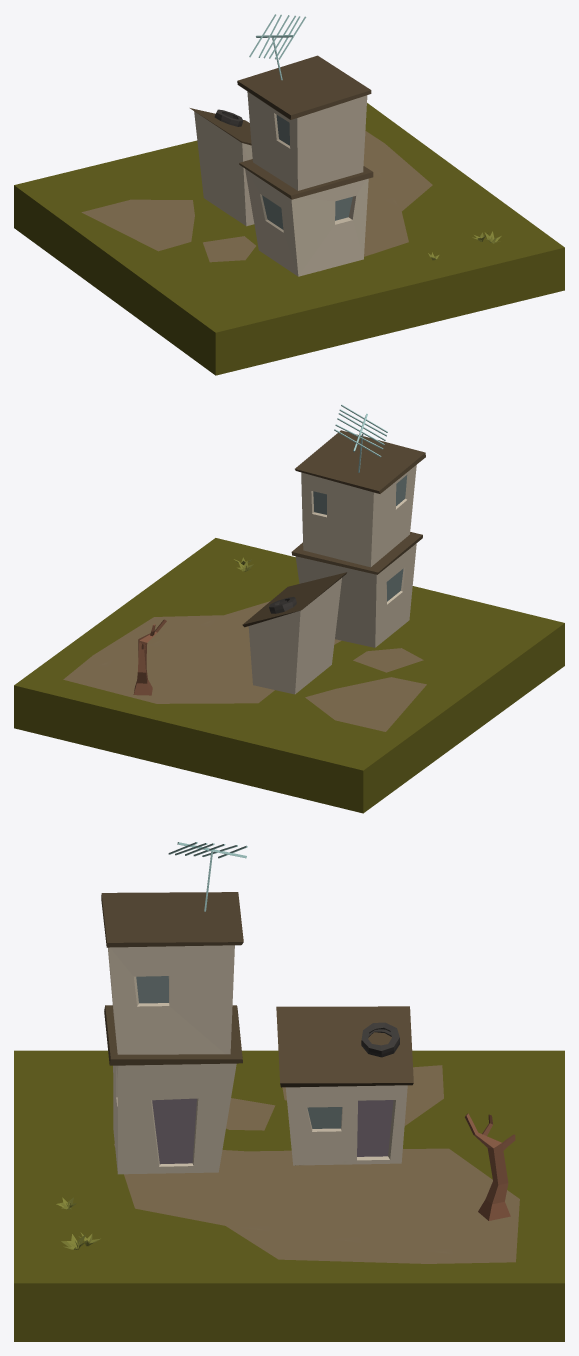
Rendered from Barraco 02.fbx.
3 views of the same model, one above another, from view 1: azimuth 30°, elevation 25°; view 2: azimuth 150°, elevation 25°; view 3: azimuth 270°, elevation 25° (orthographic). The views are drawn at different scales.
Parts seen in each view (by area): view 1: Barraco 02; view 2: Barraco 02; view 3: Barraco 02.
Part boxes in pixels (left/top/right/bottom): Barraco 02: left=14, top=14, right=564, bottom=375; Barraco 02: left=14, top=404, right=564, bottom=813; Barraco 02: left=14, top=842, right=564, bottom=1341.
Size of the model in its own units: 200 by 149 by 200.
